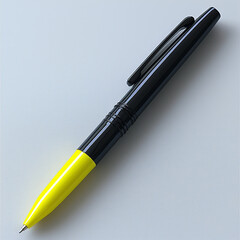pen: (13, 5, 224, 236)
